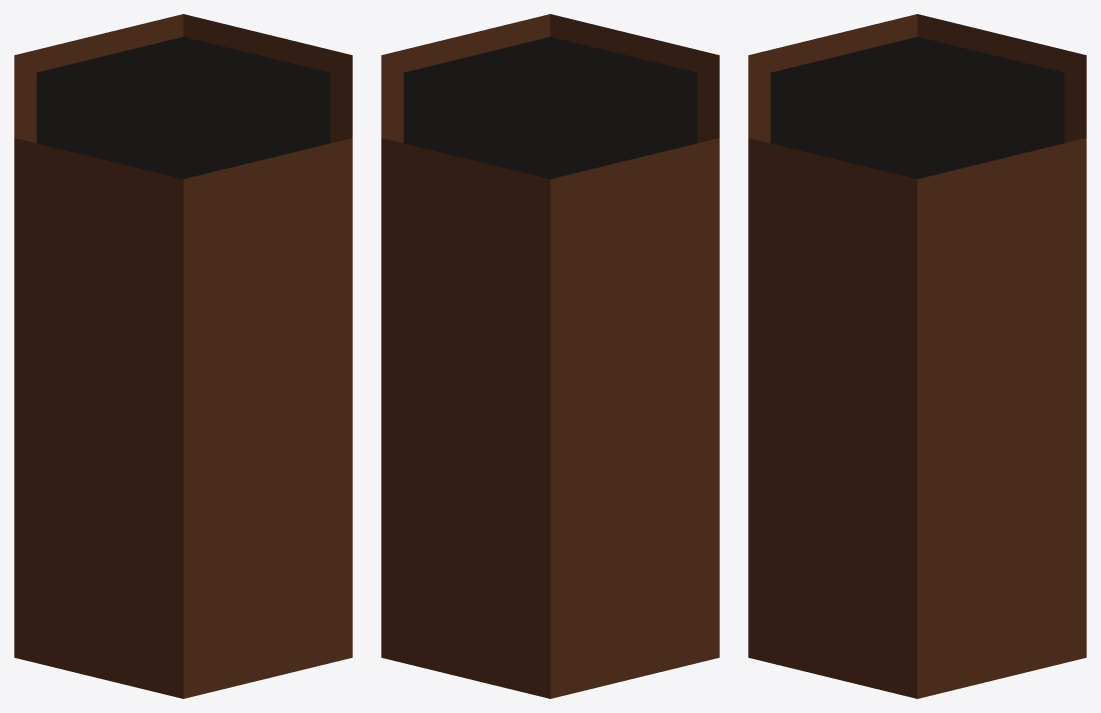
Rendered from ub_drum_lod1.glb.
3 renders of one model, left to right at view 1: azimuth 30°, elevation 25°; view 2: azimuth 150°, elevation 25°; view 3: azimuth 270°, elevation 25°, orthographic.
Visible parts, largest first — view 1: ub_drum_lod1; view 2: ub_drum_lod1; view 3: ub_drum_lod1.
Part boxes in pixels (box(x1,y1,x2,y2)): ub_drum_lod1: box(14, 14, 352, 698); ub_drum_lod1: box(381, 14, 719, 698); ub_drum_lod1: box(748, 14, 1086, 698).
Bounding box in the file's own units: 0.6 × 0.88 × 0.5196.
